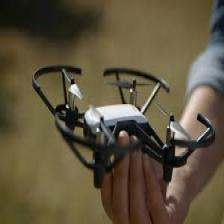drone: (33, 64, 216, 177)
